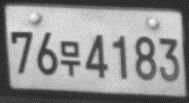1: (112, 35, 129, 80)
3: (159, 37, 180, 82)
4: (84, 33, 108, 78)
6: (36, 31, 58, 76)
7: (10, 30, 34, 74)
8: (134, 36, 157, 82)
무: (60, 40, 81, 77)
